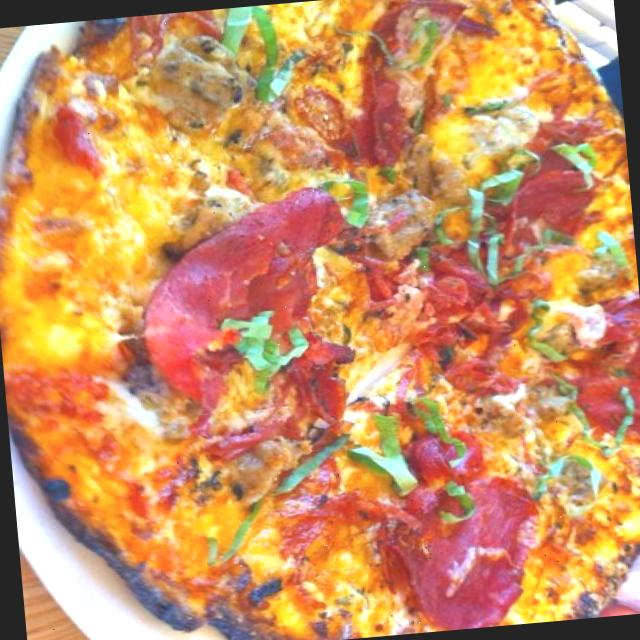basil: (196, 1, 308, 112), (439, 158, 534, 242), (222, 297, 316, 380), (352, 400, 419, 516), (506, 448, 618, 505), (395, 394, 479, 459), (318, 168, 382, 229)
pepperoni: (123, 188, 357, 418), (379, 454, 551, 634), (340, 0, 495, 166), (476, 115, 614, 280), (551, 276, 640, 461)
pizza: (0, 0, 640, 640)
